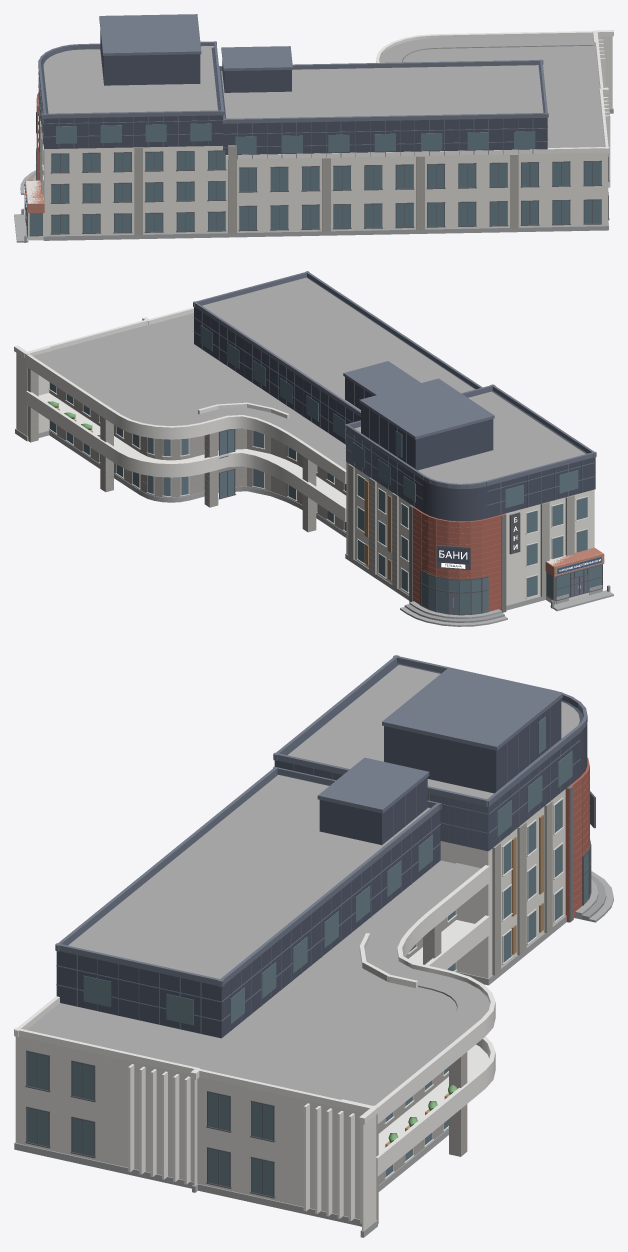
The picture shows the model from 3 angles, top to bottom: view 1: azimuth 30°, elevation 25°; view 2: azimuth 150°, elevation 25°; view 3: azimuth 270°, elevation 25°; orthographic projection. The views are drawn at different scales.
Parts seen in each view (by area): view 1: base; view 2: base; view 3: base.
Boxes of the visible parts, box(x1,y1,x2,y2) form: base: box(14, 14, 613, 242); base: box(14, 271, 613, 626); base: box(14, 655, 613, 1237).
Size of the model in its own units: 69.67 by 17.8 by 42.64.
